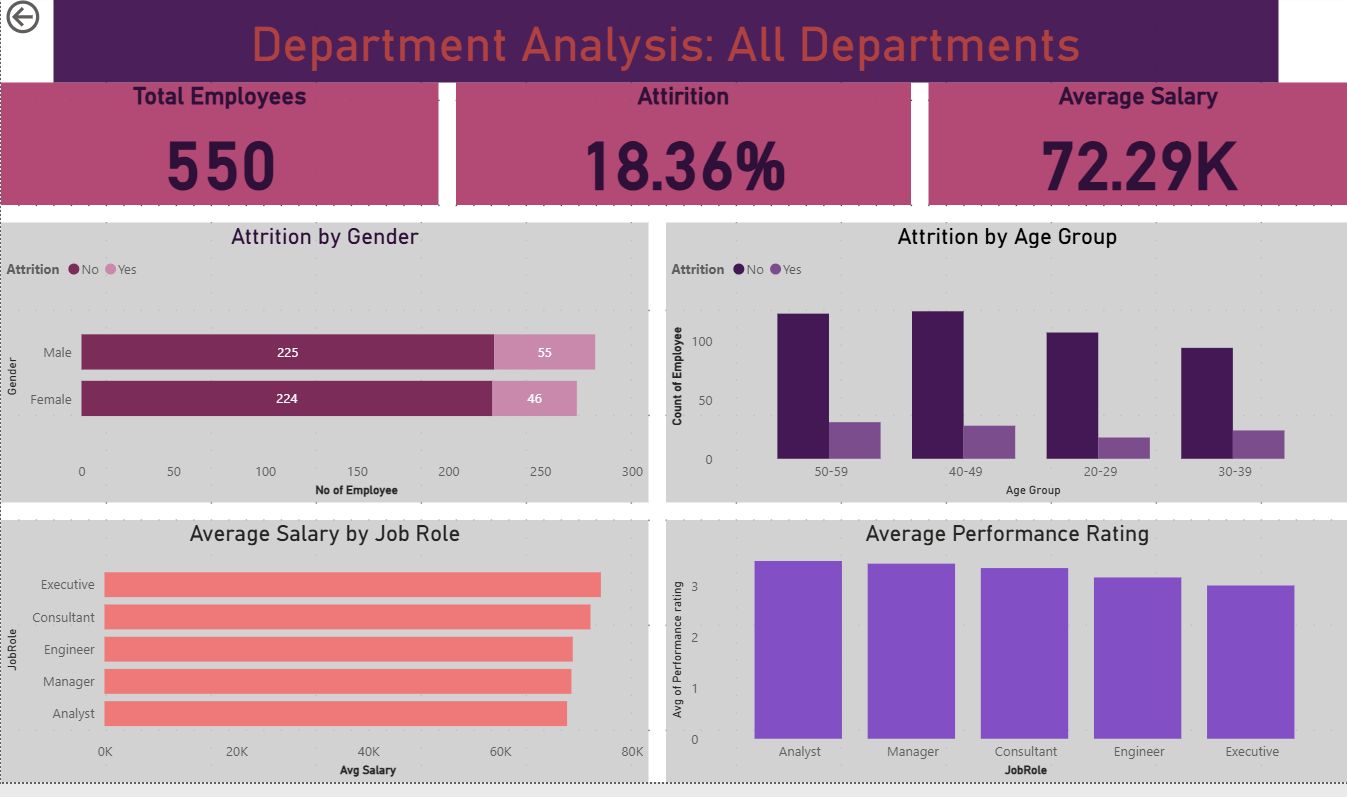

The page's visual inventory and layout, read from the dashboard file:
{"tool":"powerbi","page":{"name":"Department Details","canvas":[1280,720],"ordinal":1},"visuals":[{"type":"actionButton","box":[0,0,100,40],"z":0},{"type":"card","title":"Total Employees","fields":{"Values":["HR_Analytics_Dataset.Total Employees (Dept)"]},"box":[0,80,400,112],"z":1000},{"type":"card","title":"Attirition ","fields":{"Values":["HR_Analytics_Dataset.Attrition %"]},"box":[416,80,416,112],"z":2000},{"type":"card","title":"Average Salary","fields":{"Values":["HR_Analytics_Dataset.Avg Salary"]},"box":[848,80,384,112],"z":3000},{"type":"barChart","title":"Attrition by Gender","fields":{"Category":["HR_Analytics_Dataset.Gender"],"Y":["CountNonNull(HR_Analytics_Dataset.EmployeeID)"],"Series":["HR_Analytics_Dataset.Attrition"]},"box":[0,208,592,256],"z":4000},{"type":"clusteredColumnChart","title":"Attrition by Age Group","fields":{"Category":["HR_Analytics_Dataset.AgeGroup"],"Series":["HR_Analytics_Dataset.Attrition"],"Y":["CountNonNull(HR_Analytics_Dataset.EmployeeID)"]},"box":[608,208,624,256],"z":5000},{"type":"barChart","title":"Average Salary by Job Role","fields":{"Category":["HR_Analytics_Dataset.JobRole"],"Y":["HR_Analytics_Dataset.Avg Salary"]},"box":[0,480,592,240],"z":6000},{"type":"columnChart","title":"Average Performance Rating","fields":{"Category":["HR_Analytics_Dataset.JobRole"],"Y":["Avg(HR_Analytics_Dataset.PerformanceRating)"]},"box":[608,480,624,240],"z":7000},{"type":"card","fields":{"Values":["HR_Analytics_Dataset.Page Title"]},"box":[48,0,1120,80],"z":8000}]}

Visuals, with their boxes on the page's 1280x720 design canvas (x1, y1, x2, y2). These are canvas units, not pixel positions in the 1347x797 screenshot, which may show the page scaled, cropped or inside an application window:
actionButton: rect(0, 0, 100, 40)
"Total Employees" card: rect(0, 80, 400, 192)
"Attirition " card: rect(416, 80, 832, 192)
"Average Salary" card: rect(848, 80, 1232, 192)
"Attrition by Gender" barChart: rect(0, 208, 592, 464)
"Attrition by Age Group" clusteredColumnChart: rect(608, 208, 1232, 464)
"Average Salary by Job Role" barChart: rect(0, 480, 592, 720)
"Average Performance Rating" columnChart: rect(608, 480, 1232, 720)
card - HR_Analytics_Dataset.Page Title: rect(48, 0, 1168, 80)
